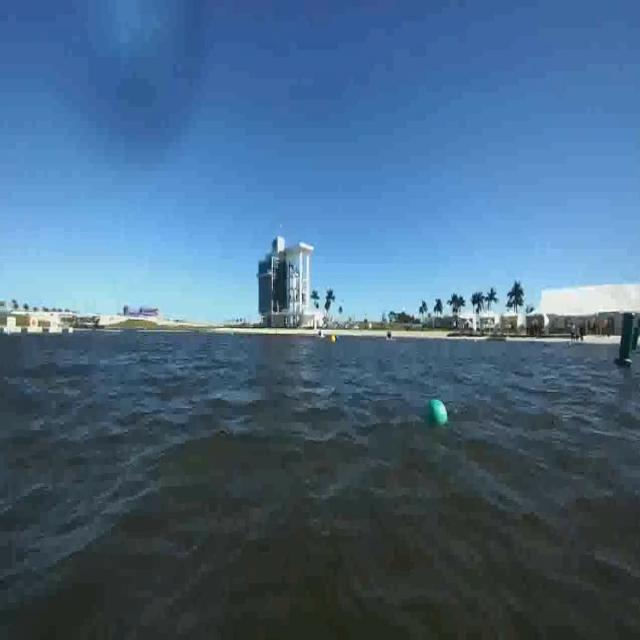green-buoy: (419, 395, 450, 431)
green-column-buoy: (617, 309, 634, 371)
